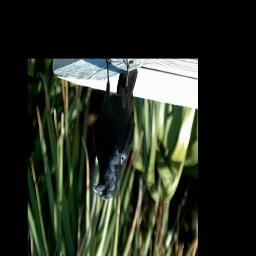Crow: (93, 59, 138, 201)
